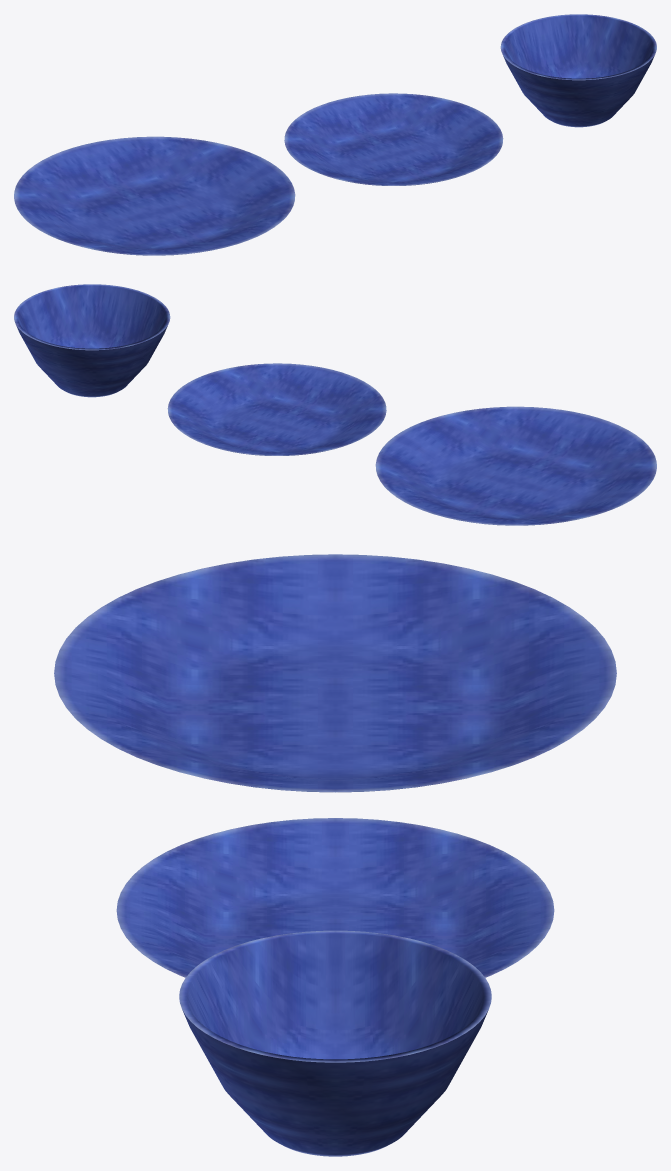
3 views of the same model, one above another, from view 1: azimuth 30°, elevation 25°; view 2: azimuth 150°, elevation 25°; view 3: azimuth 270°, elevation 25° (orthographic). The views are drawn at different scales.
Bounding box in the file's own units: 0.68 × 0.07 × 0.27.
6 materials, 6 textured.
